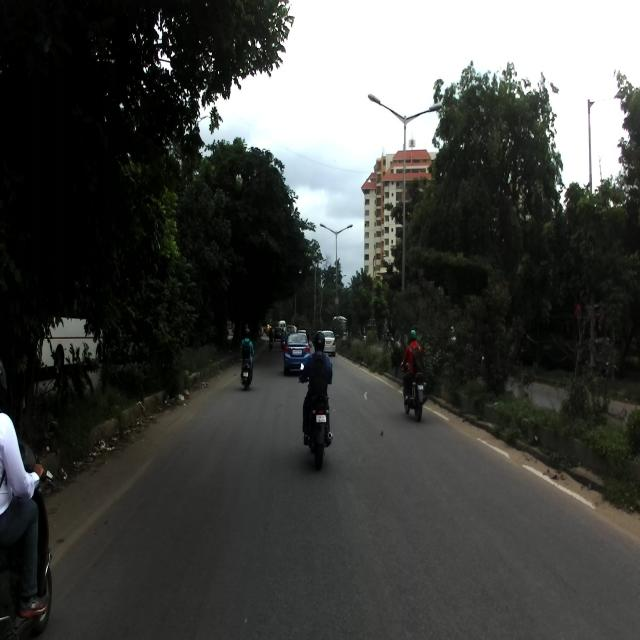motorcycle_Yamaha: (297, 364, 333, 467)
motorcycle_bajaj: (400, 360, 429, 422)
